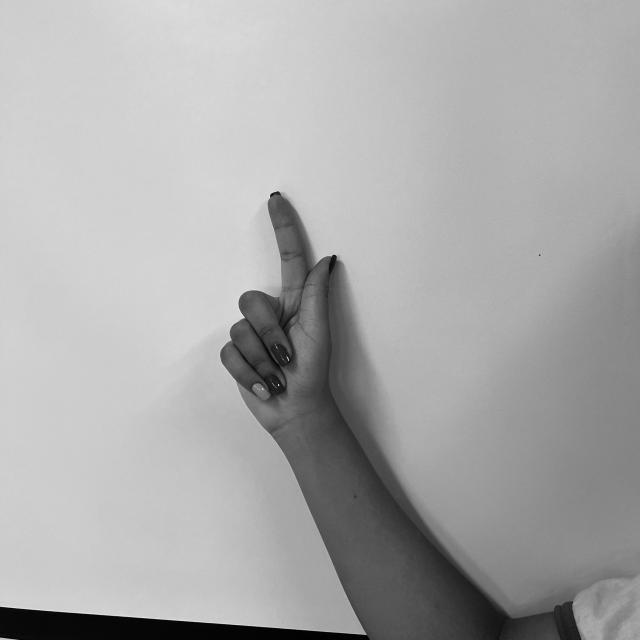Letra G: (214, 182, 347, 432)
